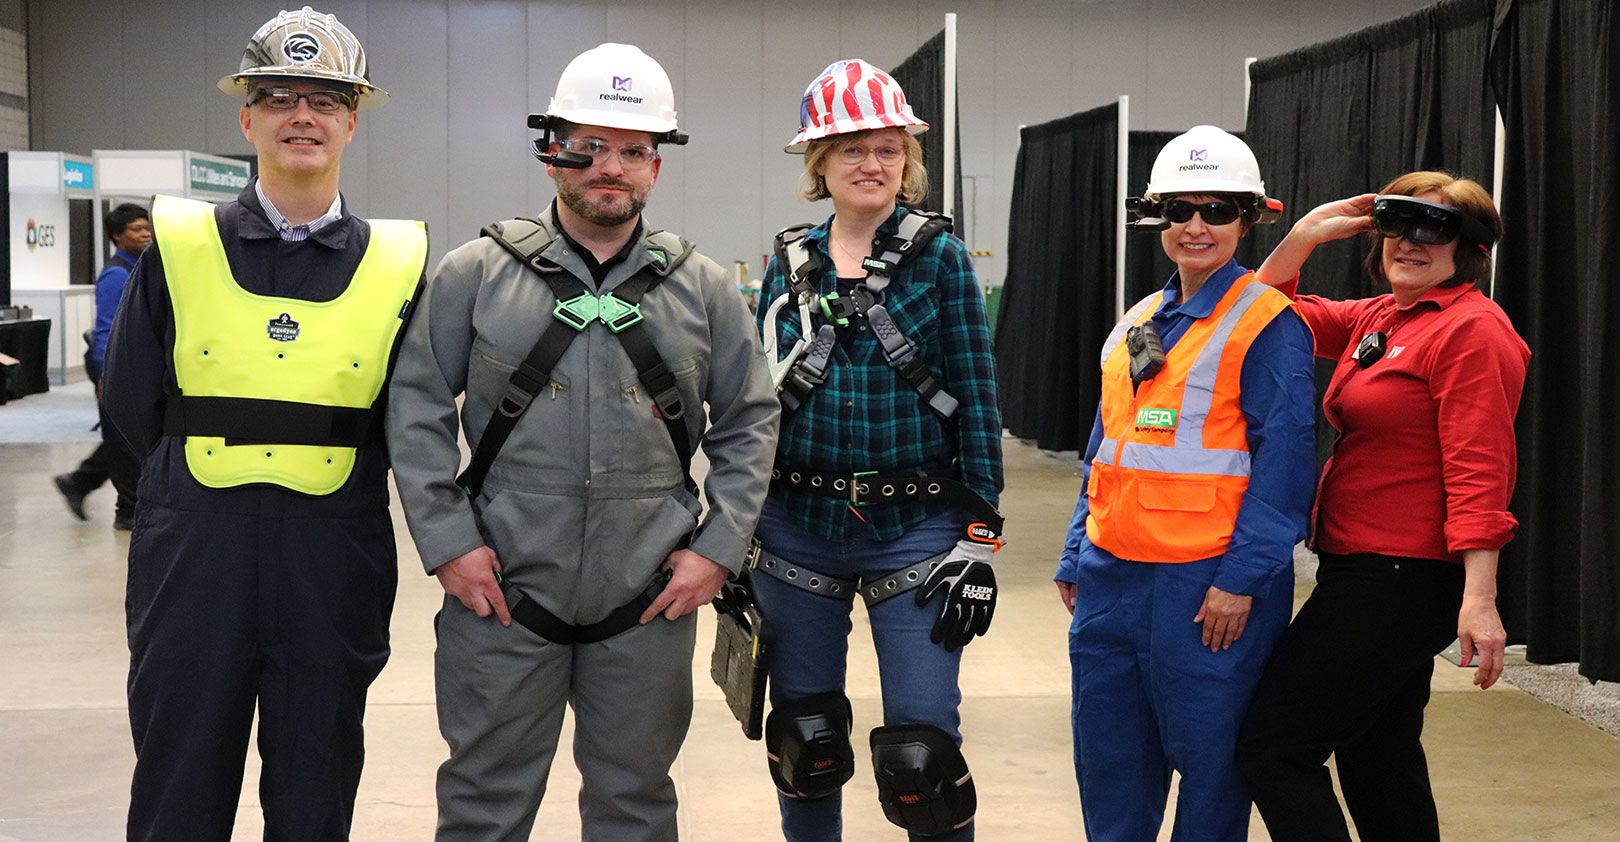Person_wearing_helmet: (522, 20, 688, 164), (195, 1, 401, 115), (1113, 115, 1286, 229), (776, 56, 943, 164)
